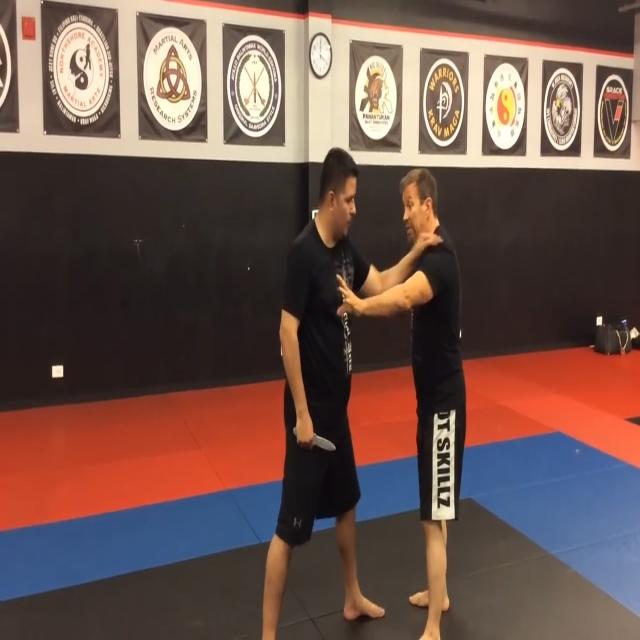knife: (313, 433, 339, 453)
